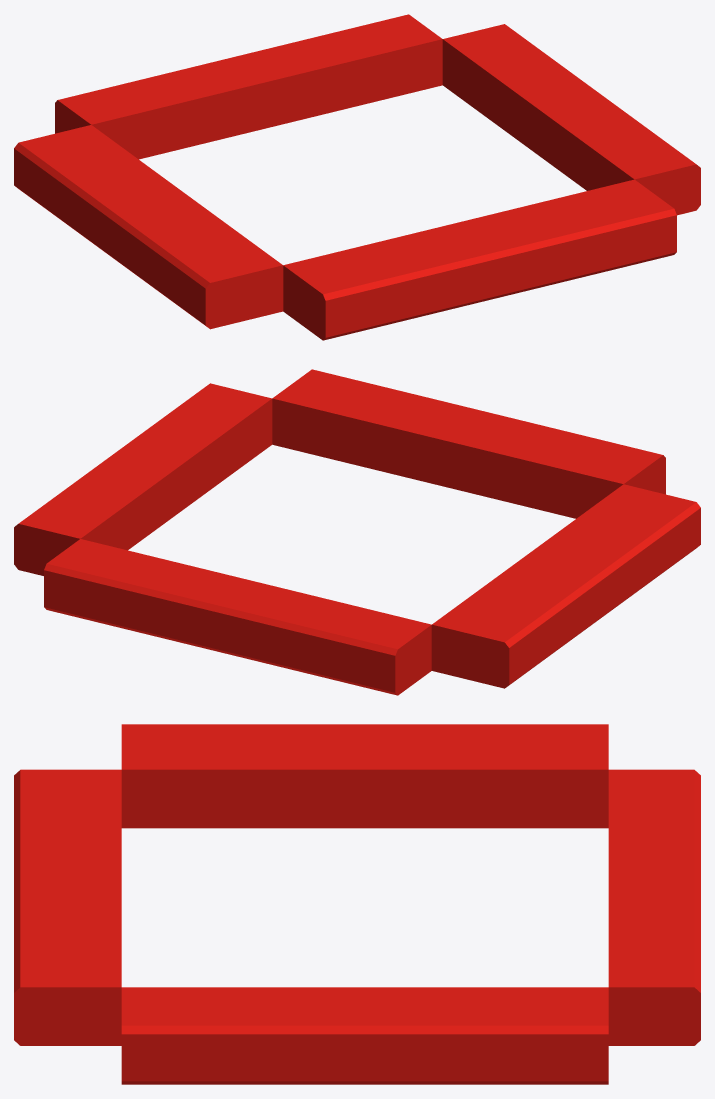
Rendered from target.fbx.
3 views of the same model, one above another, from view 1: azimuth 30°, elevation 25°; view 2: azimuth 150°, elevation 25°; view 3: azimuth 270°, elevation 25° (orthographic). The views are drawn at different scales.
Visible parts, largest first — view 1: ground.001; view 2: ground.001; view 3: ground.001.
Boxes of the visible parts, x1=… form: ground.001: x1=14, y1=14, x2=700, y2=340; ground.001: x1=14, y1=369, x2=700, y2=695; ground.001: x1=14, y1=724, x2=700, y2=1084.
Size of the model in its own units: 112 by 10 by 106.
